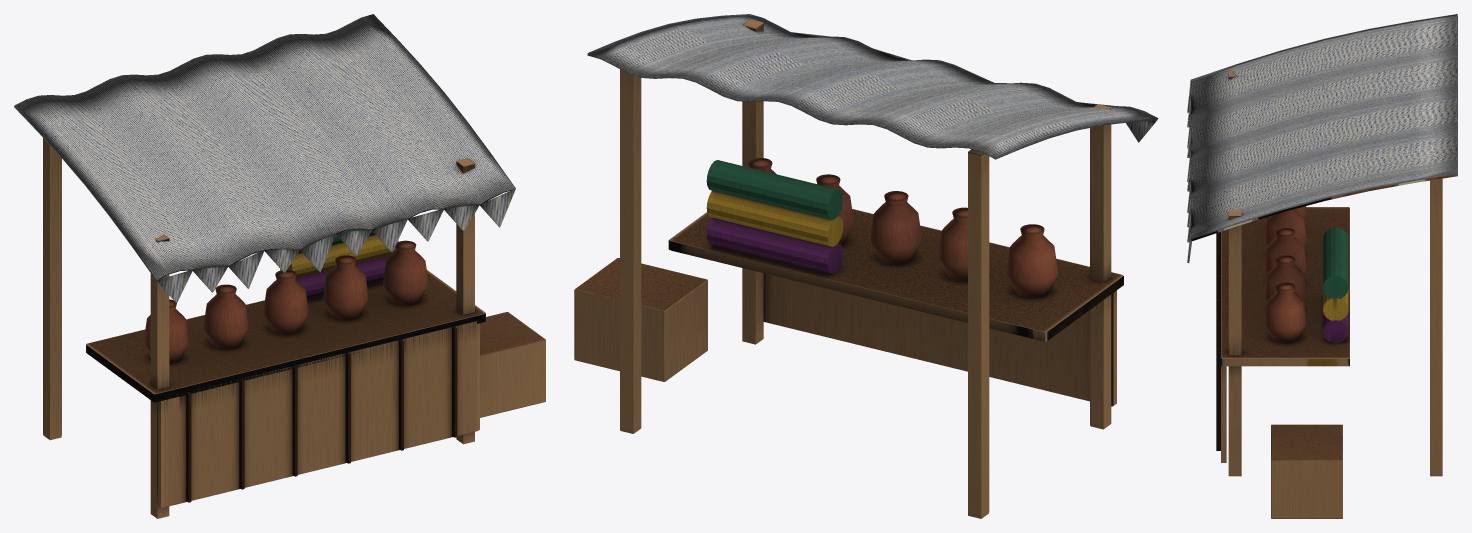
File: cenario_barraca_feira_b.glb
The picture shows the model from 3 angles, left to right: view 1: azimuth 30°, elevation 25°; view 2: azimuth 150°, elevation 25°; view 3: azimuth 270°, elevation 25°; orthographic projection. The views are drawn at different scales.
Visible parts, largest first — view 1: cenario_barraca_feira_b; view 2: cenario_barraca_feira_b; view 3: cenario_barraca_feira_b.
Boxes of the visible parts, x1,y1,x2,y2 form: cenario_barraca_feira_b: (14, 14, 545, 518); cenario_barraca_feira_b: (574, 14, 1158, 518); cenario_barraca_feira_b: (1187, 14, 1457, 518).
Bounding box in the file's own units: 3.25 × 2.39 × 1.88.
Materials: 1 (1 with a texture image).
